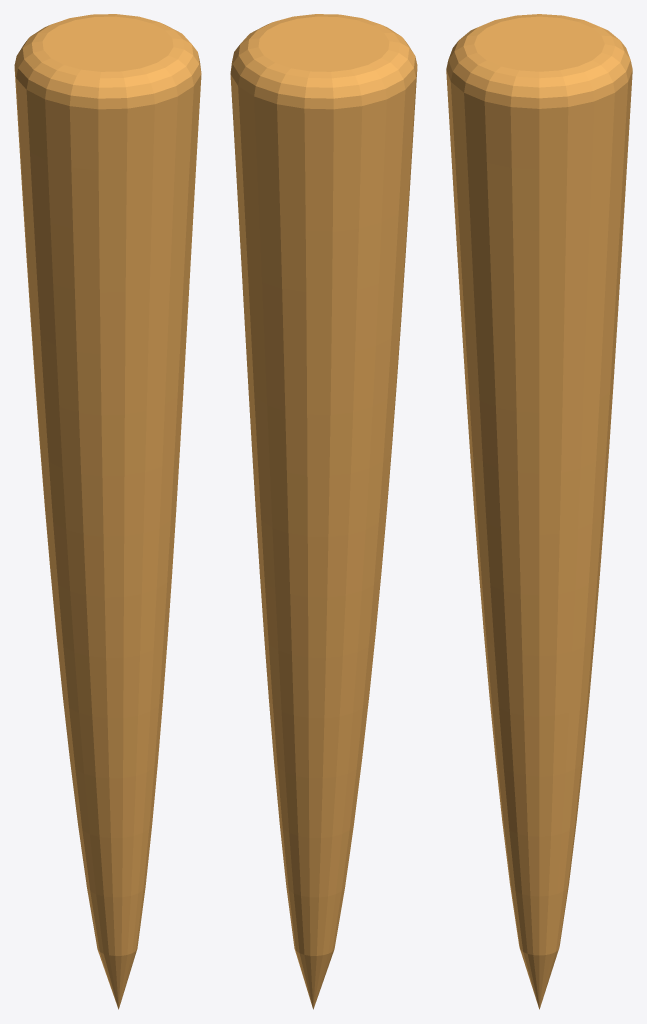
Rendered from carrot_v10.glb.
The picture shows the model from 3 angles, left to right: view 1: azimuth 30°, elevation 25°; view 2: azimuth 150°, elevation 25°; view 3: azimuth 270°, elevation 25°; orthographic projection.
Visible parts, largest first — view 1: root; view 2: root; view 3: root.
Part boxes in pixels (x1=…): root: x1=14, y1=14, x2=201, y2=1009; root: x1=230, y1=14, x2=417, y2=1009; root: x1=446, y1=14, x2=632, y2=1009.
Bounding box in the file's own units: 0.0314 × 0.1786 × 0.0314.
